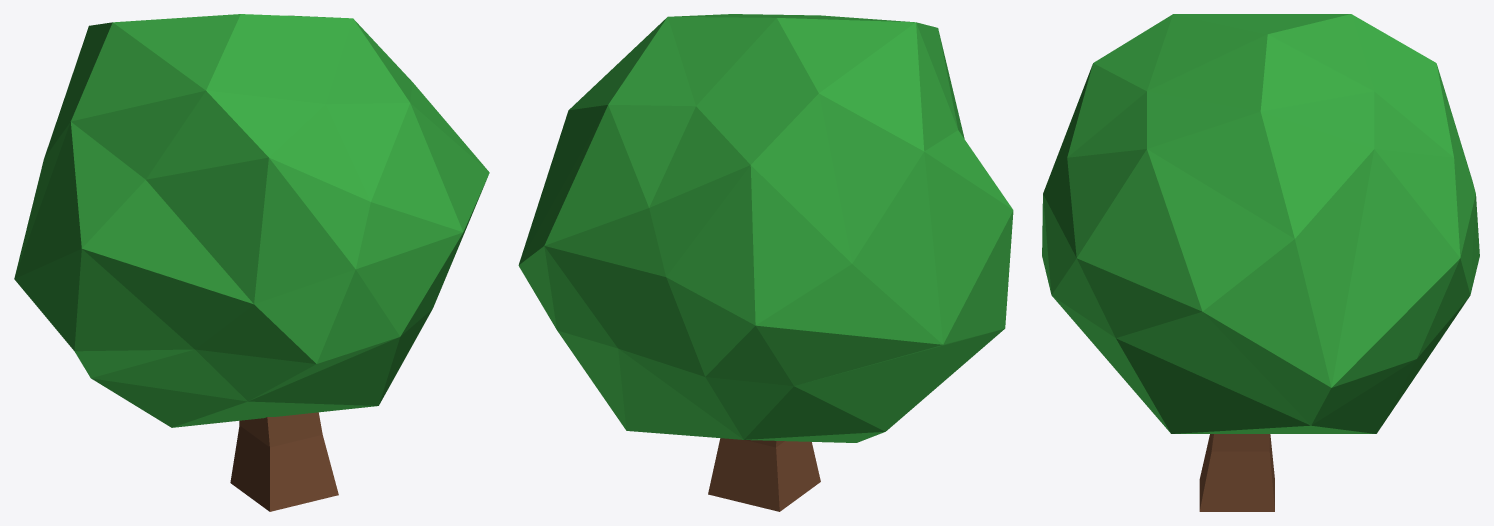
Rendered from Tree_31_Green.fbx.
3 views of the same model, side by side, from view 1: azimuth 30°, elevation 25°; view 2: azimuth 150°, elevation 25°; view 3: azimuth 270°, elevation 25° (orthographic). The views are drawn at different scales.
Visible parts, largest first — view 1: Tree_31_Green_Part_1, Tree_31_Green_Part_2; view 2: Tree_31_Green_Part_1, Tree_31_Green_Part_2; view 3: Tree_31_Green_Part_1, Tree_31_Green_Part_2.
Part boxes in pixels (x1=…): Tree_31_Green_Part_1: x1=14, y1=14, x2=489, y2=427; Tree_31_Green_Part_2: x1=230, y1=412, x2=338, y2=511; Tree_31_Green_Part_1: x1=518, y1=14, x2=1013, y2=442; Tree_31_Green_Part_2: x1=708, y1=438, x2=820, y2=511; Tree_31_Green_Part_1: x1=1042, y1=14, x2=1479, y2=433; Tree_31_Green_Part_2: x1=1199, y1=434, x2=1274, y2=511.
Size of the model in its own units: 732 by 807 by 713.
